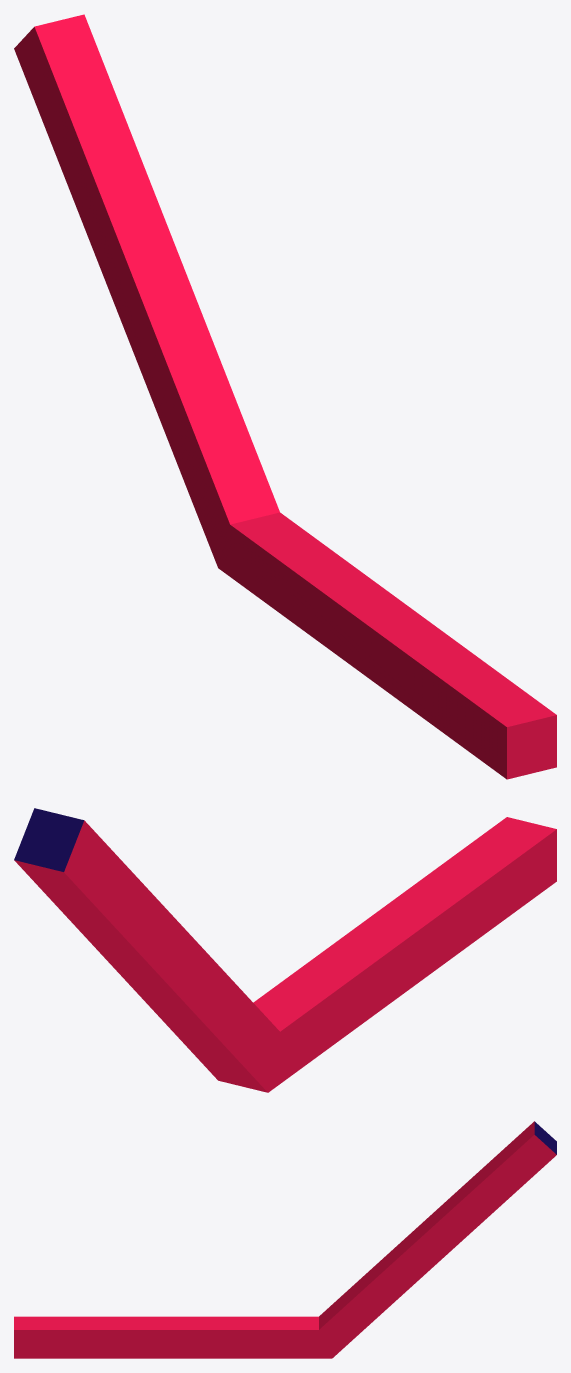
The model's file is Big Rod.fbx.
3 views of the same model, one above another, from view 1: azimuth 30°, elevation 25°; view 2: azimuth 150°, elevation 25°; view 3: azimuth 270°, elevation 25° (orthographic). The views are drawn at different scales.
Parts seen in each view (by area): view 1: Cube.001; view 2: Cube.001; view 3: Cube.001.
Boxes of the visible parts, bbox=[...] form: Cube.001: bbox=[14, 14, 556, 779]; Cube.001: bbox=[14, 808, 556, 1092]; Cube.001: bbox=[14, 1121, 556, 1358].
Size of the model in its own units: 20 by 156 by 341.
1 material, 1 textured.
